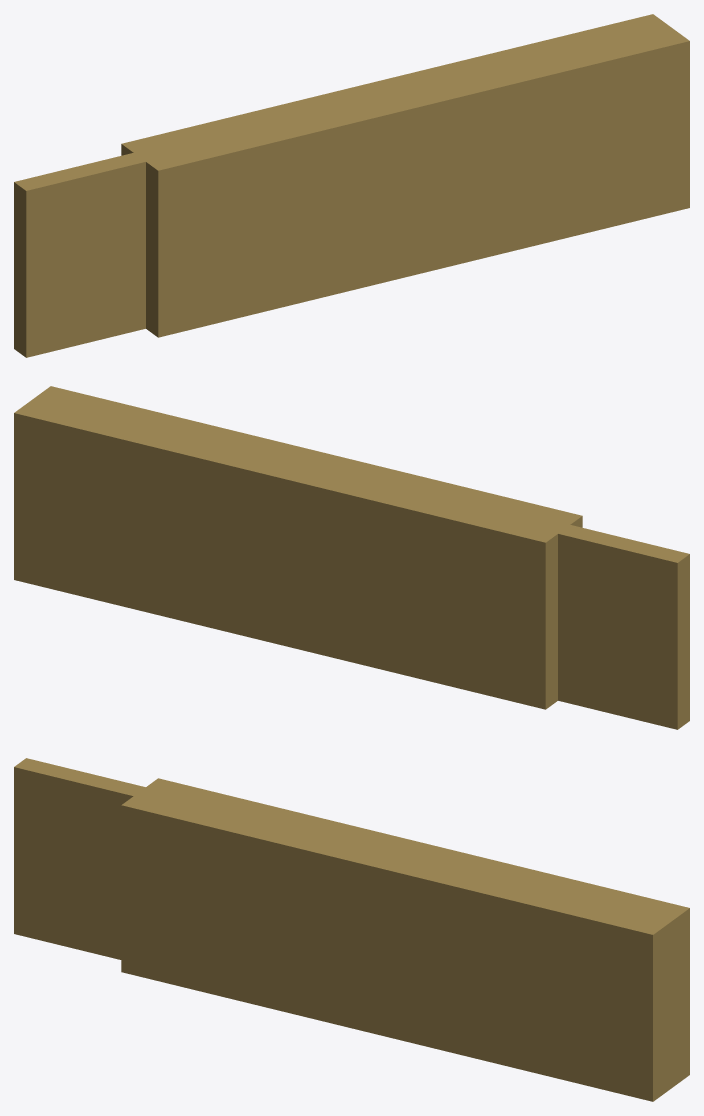
Rendered from lake-sazan-shallows-0.glb.
The picture shows the model from 3 angles, top to bottom: view 1: azimuth 30°, elevation 25°; view 2: azimuth 150°, elevation 25°; view 3: azimuth 330°, elevation 25°; orthographic projection.
Parts seen in each view (by area): view 1: body, tail; view 2: body, tail; view 3: body, tail.
Boxes of the visible parts, x1,y1,x2,y2 form: body: (121, 14, 689, 337); tail: (14, 151, 157, 357); body: (14, 386, 582, 709); tail: (547, 522, 689, 729); body: (121, 778, 689, 1101); tail: (14, 758, 158, 959).
Size of the model in its own units: 0.6738 by 0.165 by 0.066.
